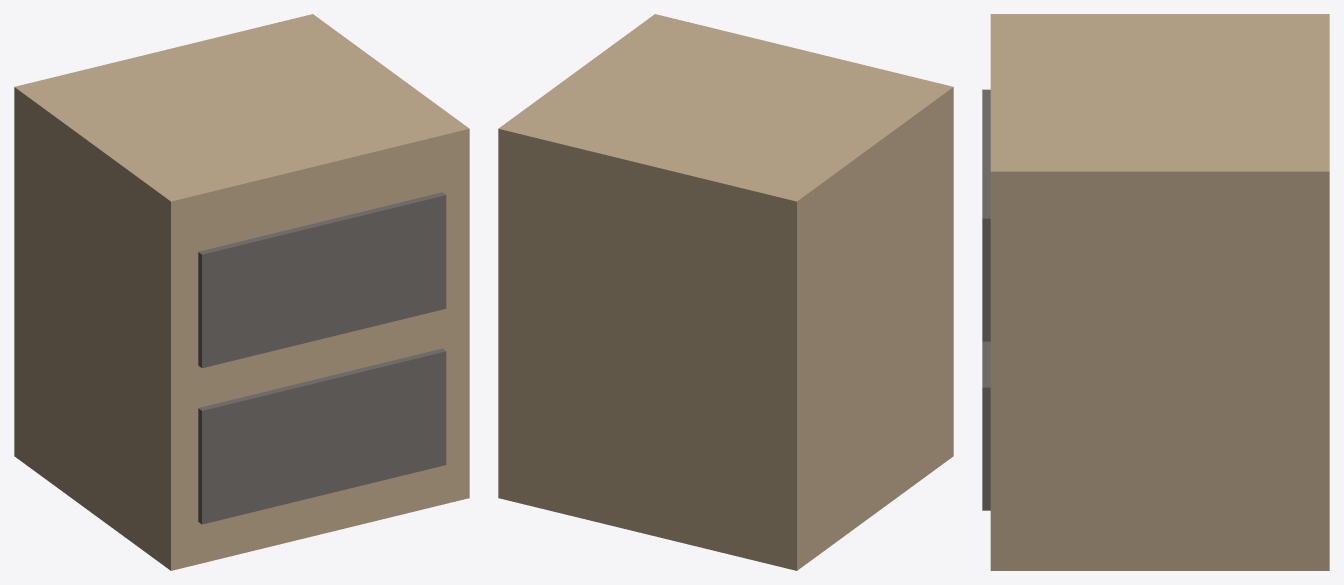
Rendered from mundane_nightstand.glb.
3 renders of one model, left to right at view 1: azimuth 30°, elevation 25°; view 2: azimuth 150°, elevation 25°; view 3: azimuth 270°, elevation 25°, orthographic. The views are drawn at different scales.
Size of the model in its own units: 0.44 by 0.52 by 0.41.
